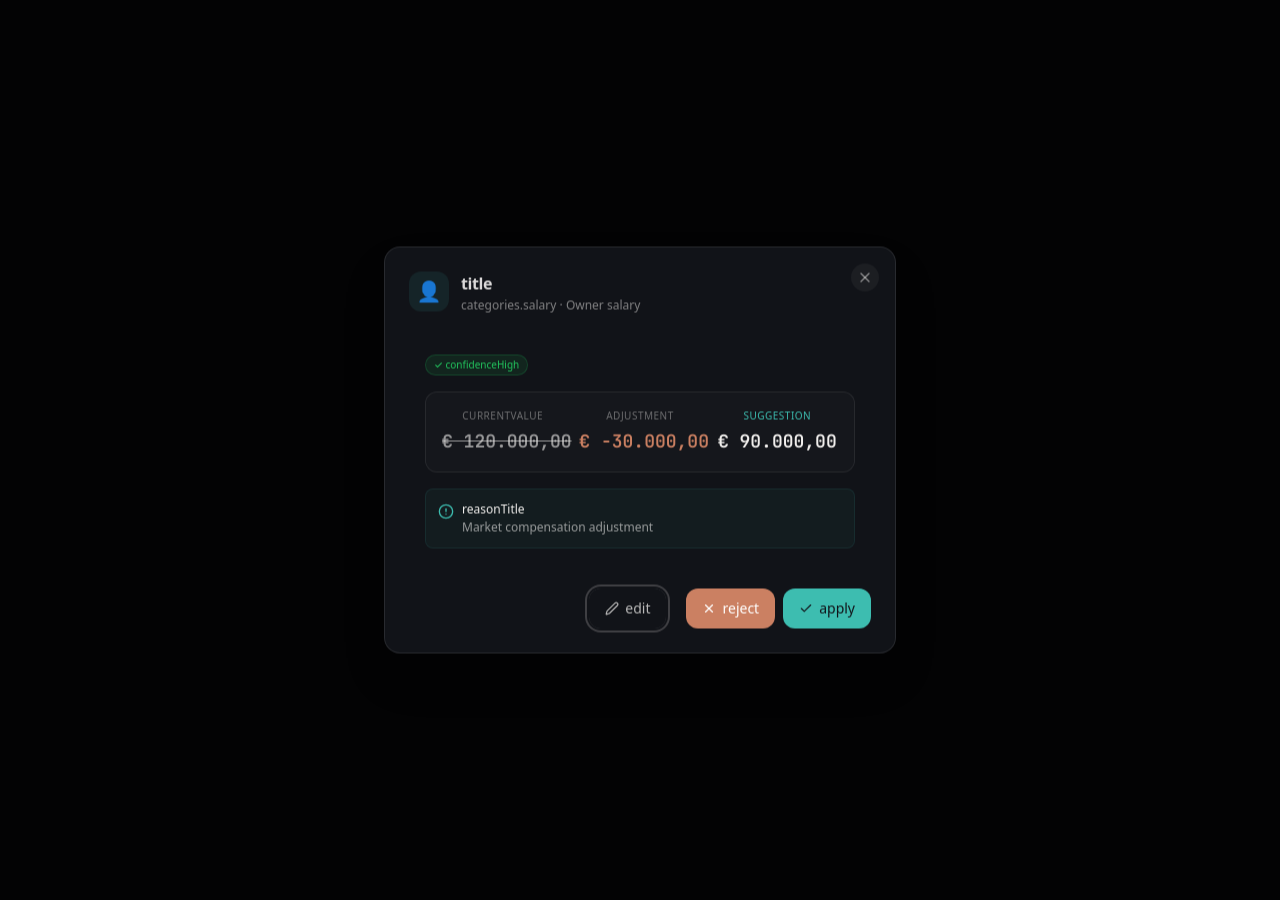
Test: NormalisationSuggestionModal › rejects malformed or lossy edits:
Click the button "edit": [628, 608] box [589,588,666,628]
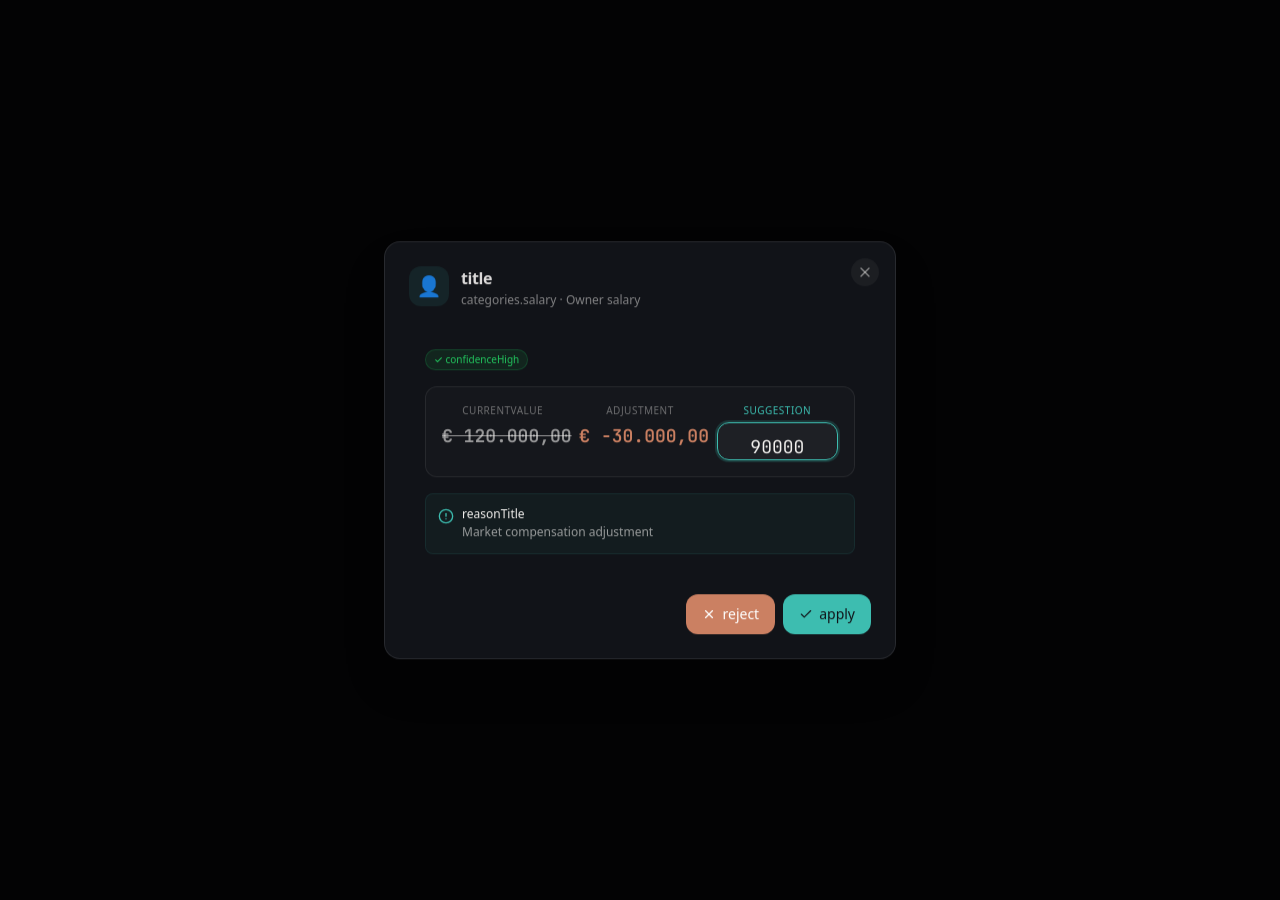
Clear the field: [777, 439] box [718,423,837,455]
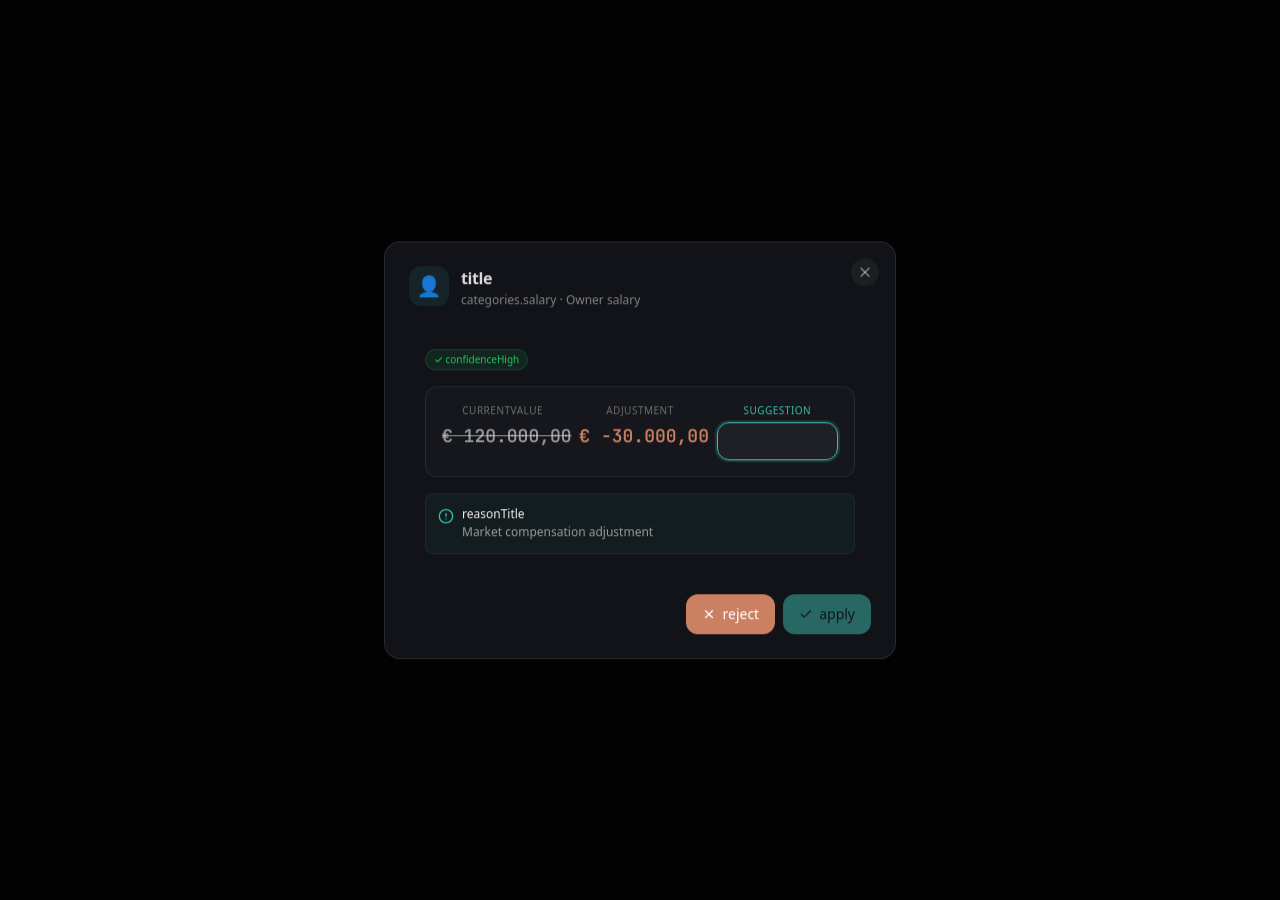
Now the button "apply" is disabled, box [783,594,871,634]
